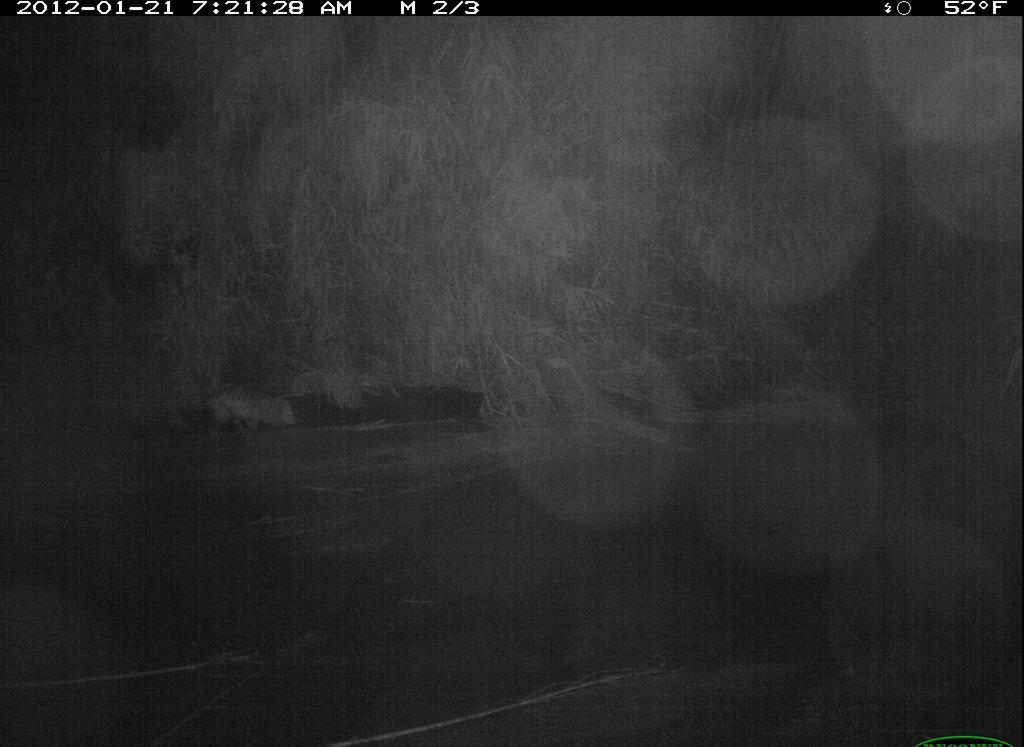opossum: (176, 369, 326, 455)
